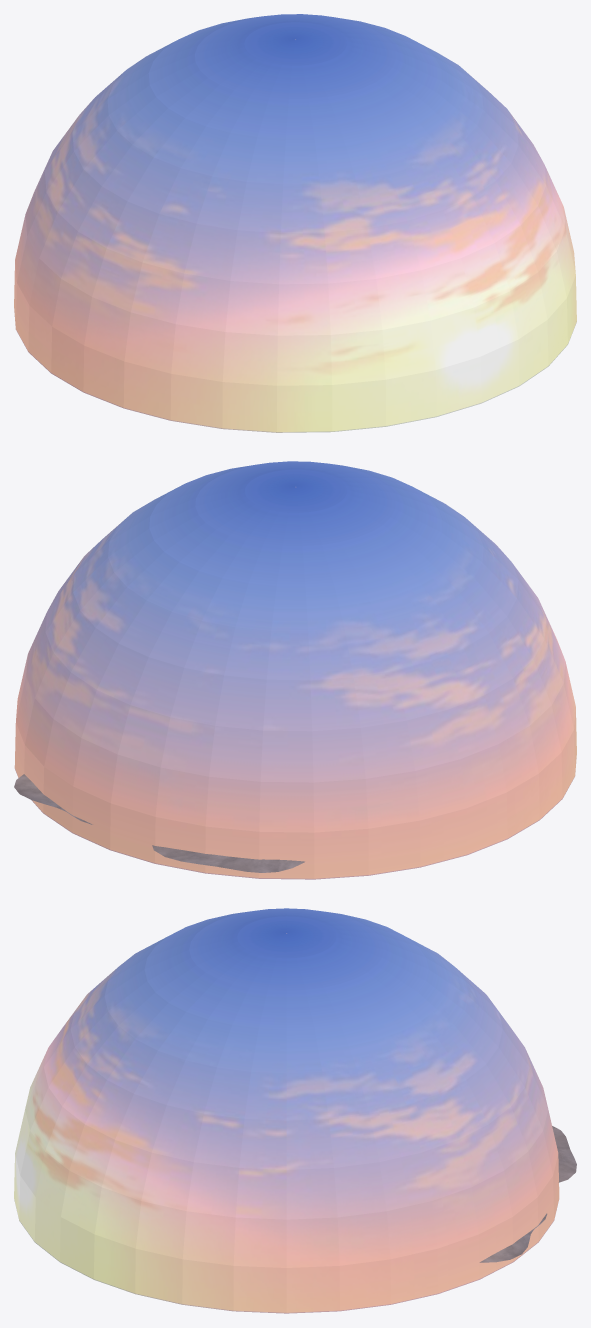
The model's file is lugar-agra-ciudad.glb.
3 views of the same model, one above another, from view 1: azimuth 30°, elevation 25°; view 2: azimuth 150°, elevation 25°; view 3: azimuth 270°, elevation 25° (orthographic). The views are drawn at different scales.
Parts seen in each view (by area): view 1: planoC; view 2: planoC, vertT; view 3: planoC, vertT.
Part boxes in pixels (<box>): planoC: <box>14,14,576,432</box>; planoC: <box>14,461,576,879</box>; vertT: <box>14,774,304,872</box>; planoC: <box>14,908,559,1313</box>; vertT: <box>479,1126,576,1262</box>.
Bounding box in the file's own units: 6584 × 3530 × 6796.
Materials: 15 (12 with a texture image).
